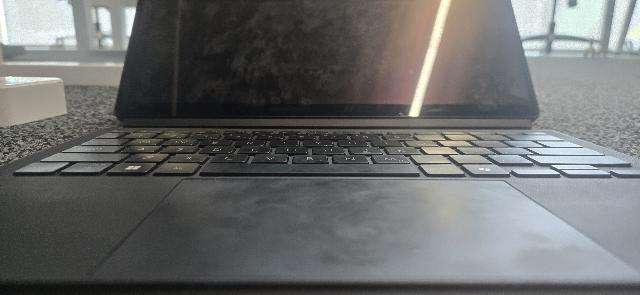Keyboard: (14, 129, 640, 178)
